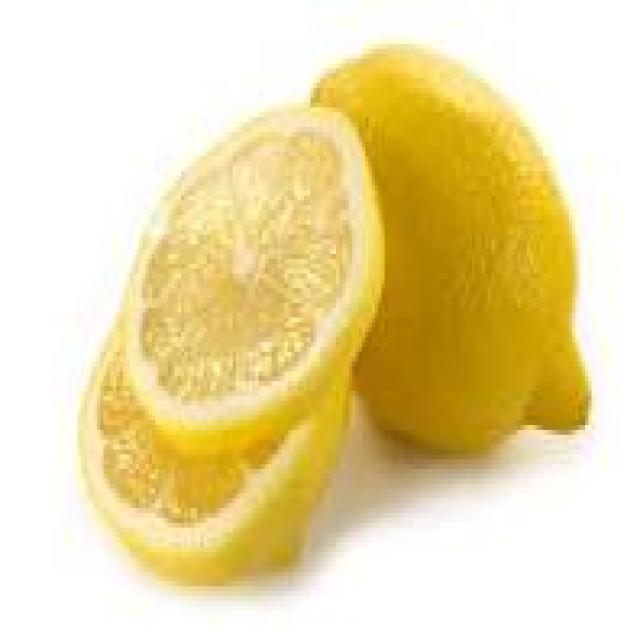lemon: (61, 29, 602, 586)
